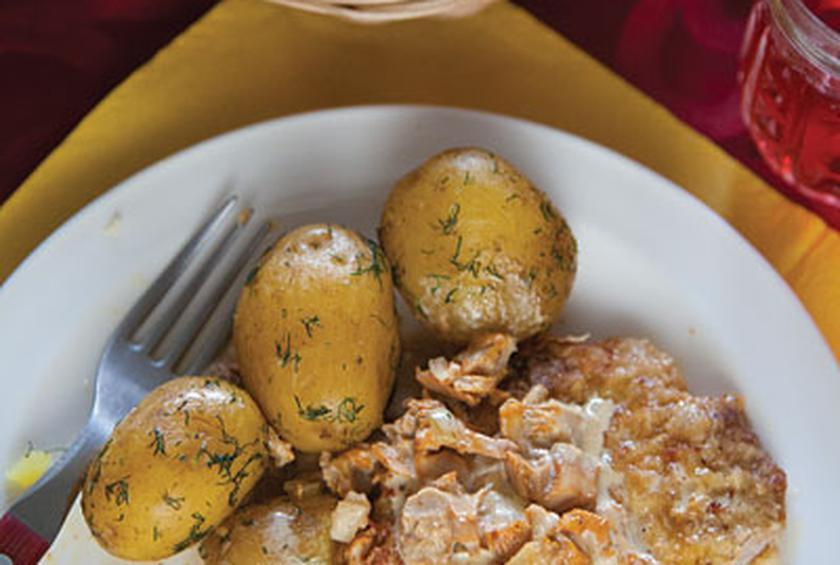boiled potatoes: (384, 147, 575, 350), (242, 224, 390, 451), (86, 382, 269, 560)
